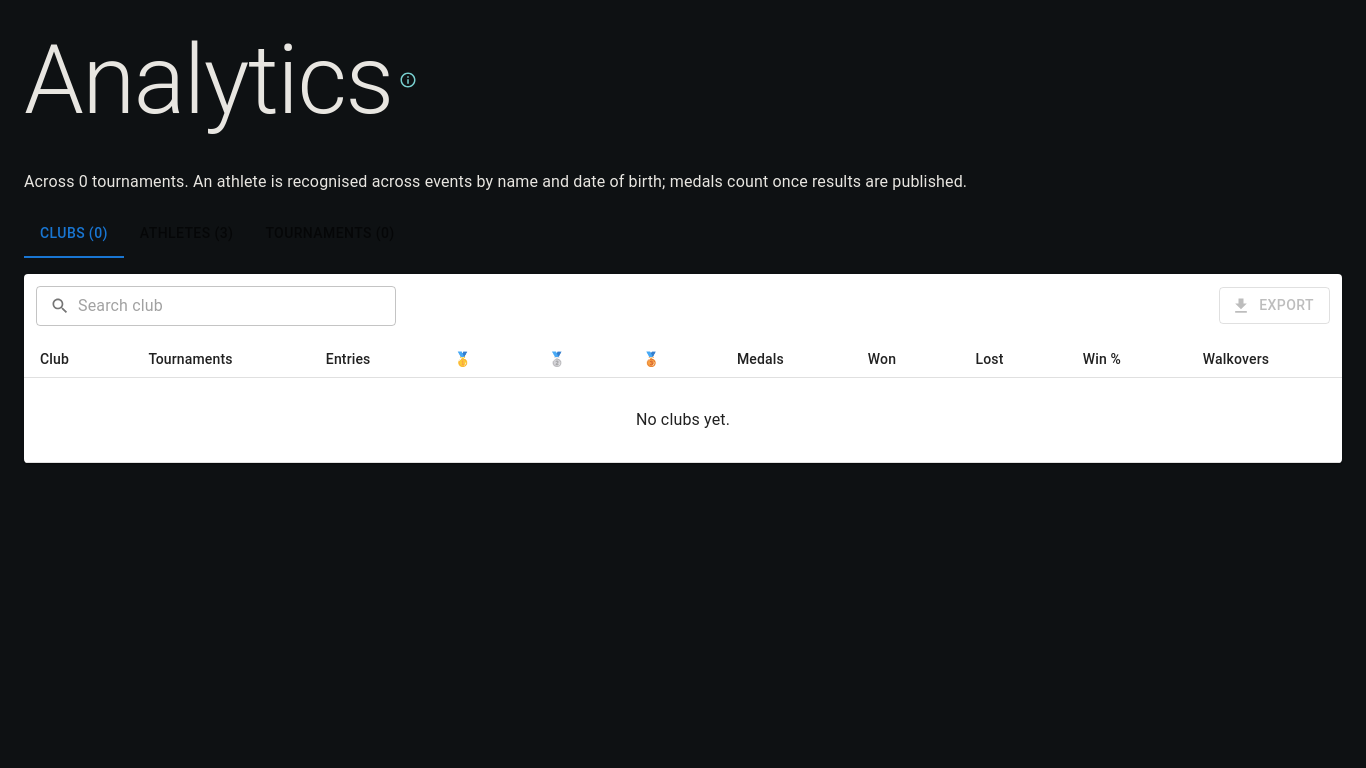
athletes joined or set apart on the Analytics screen › lists decisions with Undo for an organiser
Step 1. Click the tab "Athletes (3)" → (187, 234), box top-left (124, 210), bottom-right (249, 258)
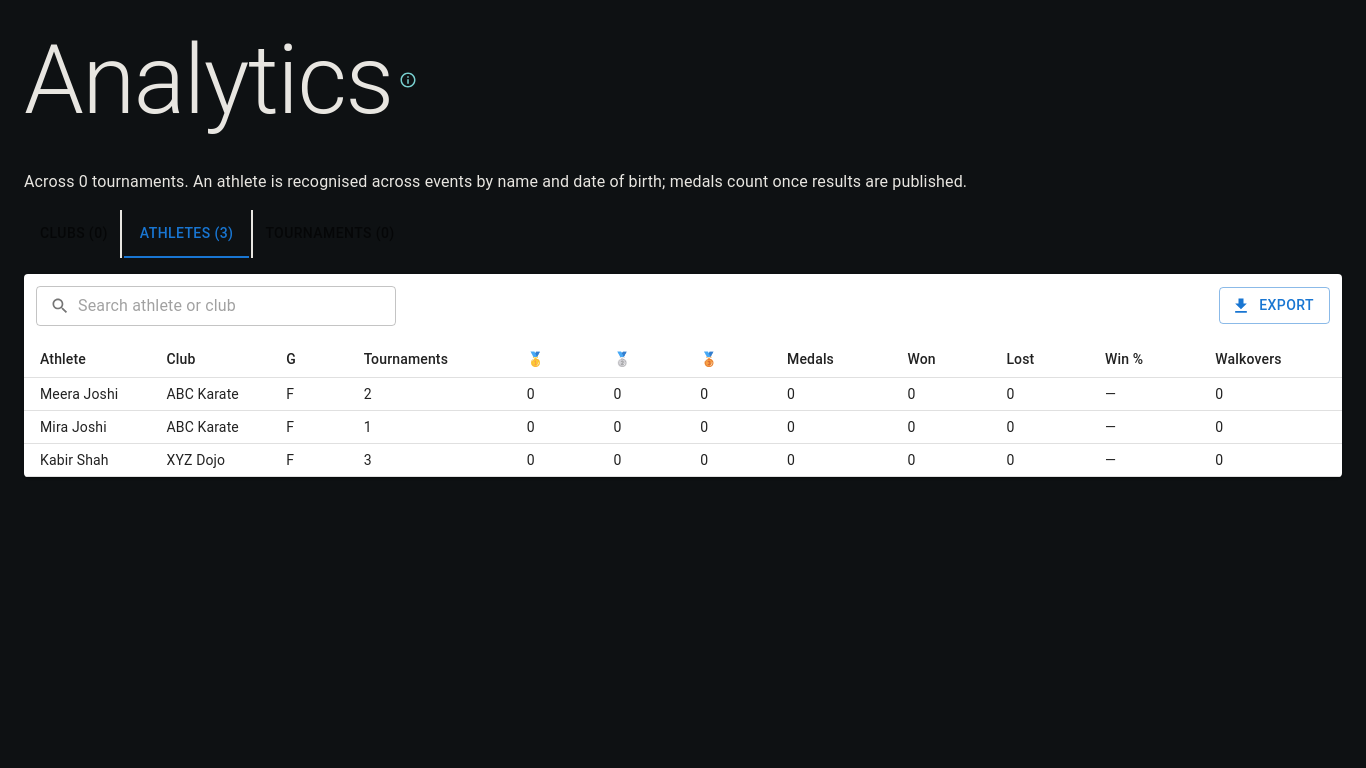
Step 2. Click the text "Mira Joshi" → (87, 427), box top-left (24, 410), bottom-right (150, 443)
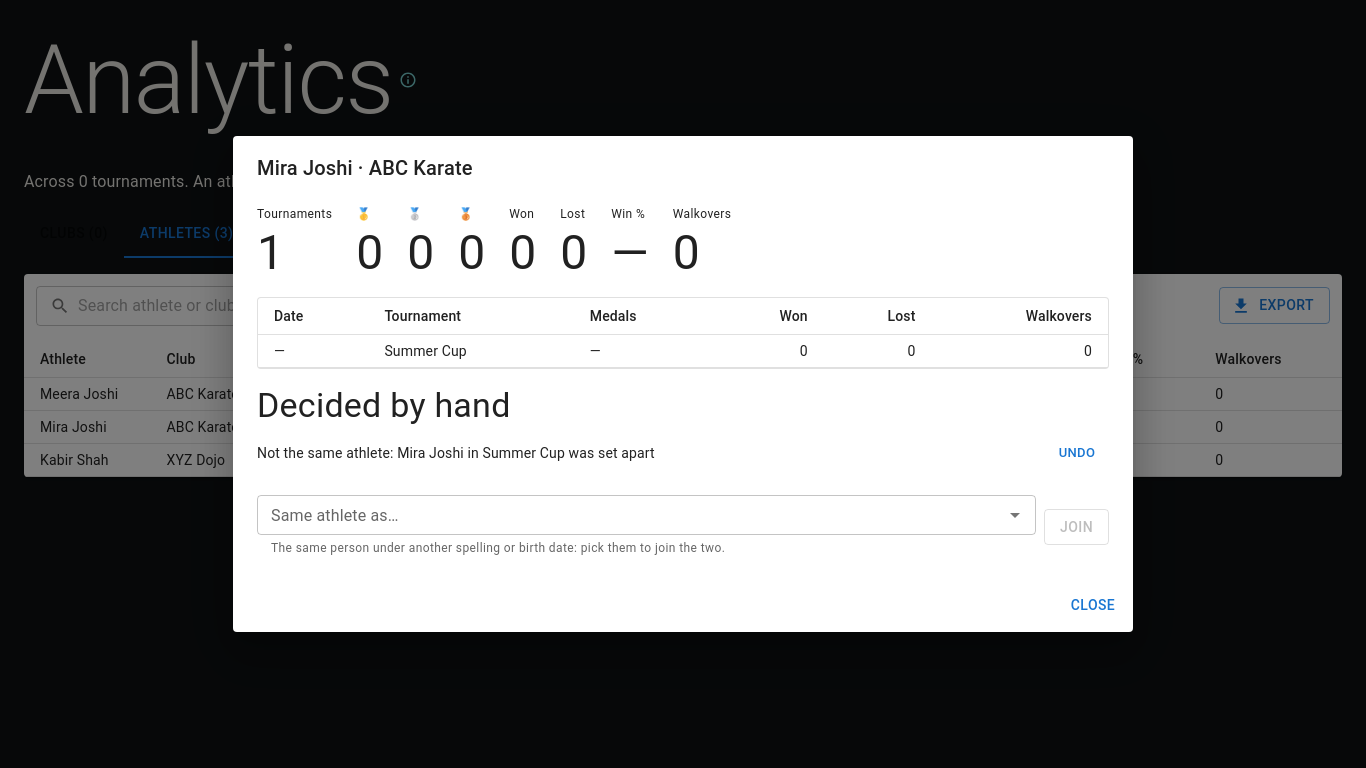
Check: the text "Not the same athlete: Mira Joshi in Summer Cup was set apart" is shown, box top-left (257, 445), bottom-right (655, 461)
Step 3. Click the button "Undo" → (1077, 453), box top-left (1045, 438), bottom-right (1109, 469)
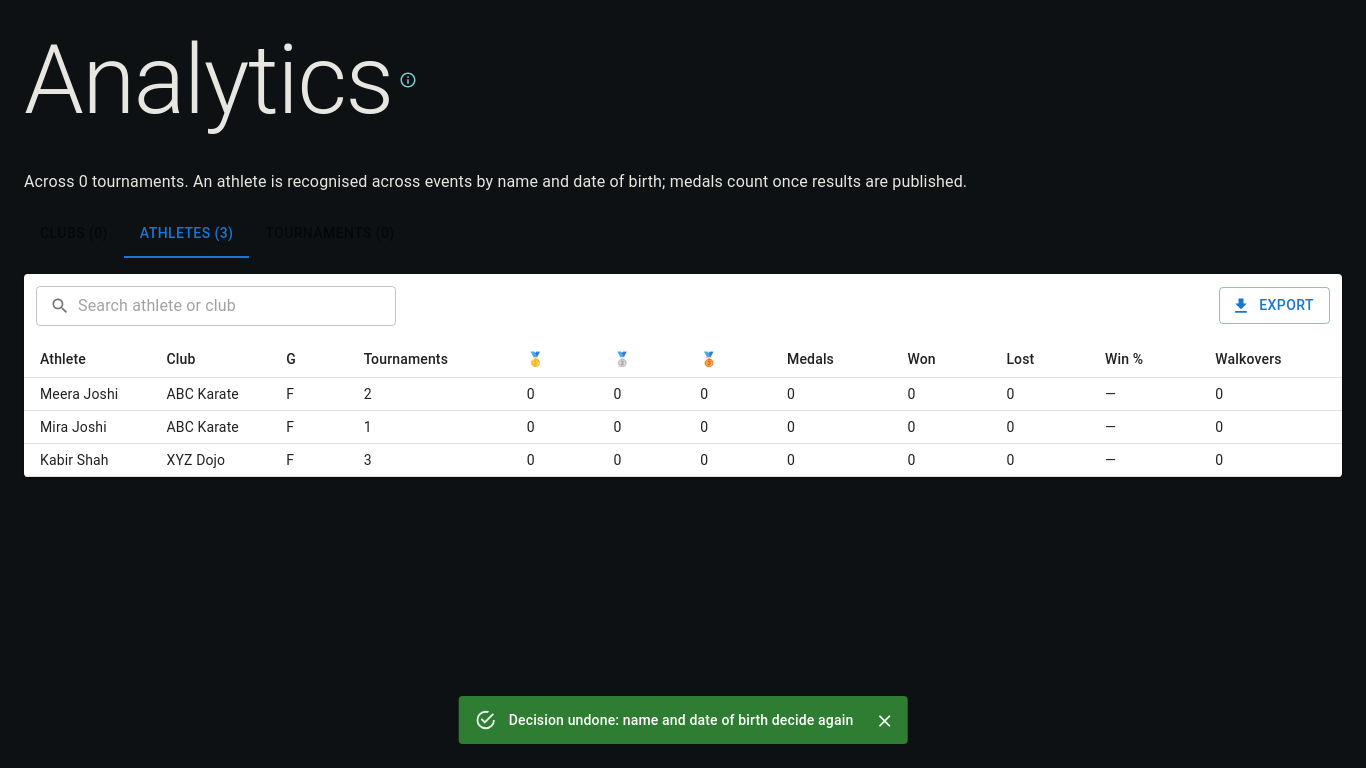
Check: the text "Decision undone: name and date of birth decide again" is shown, box top-left (509, 712), bottom-right (853, 728)
